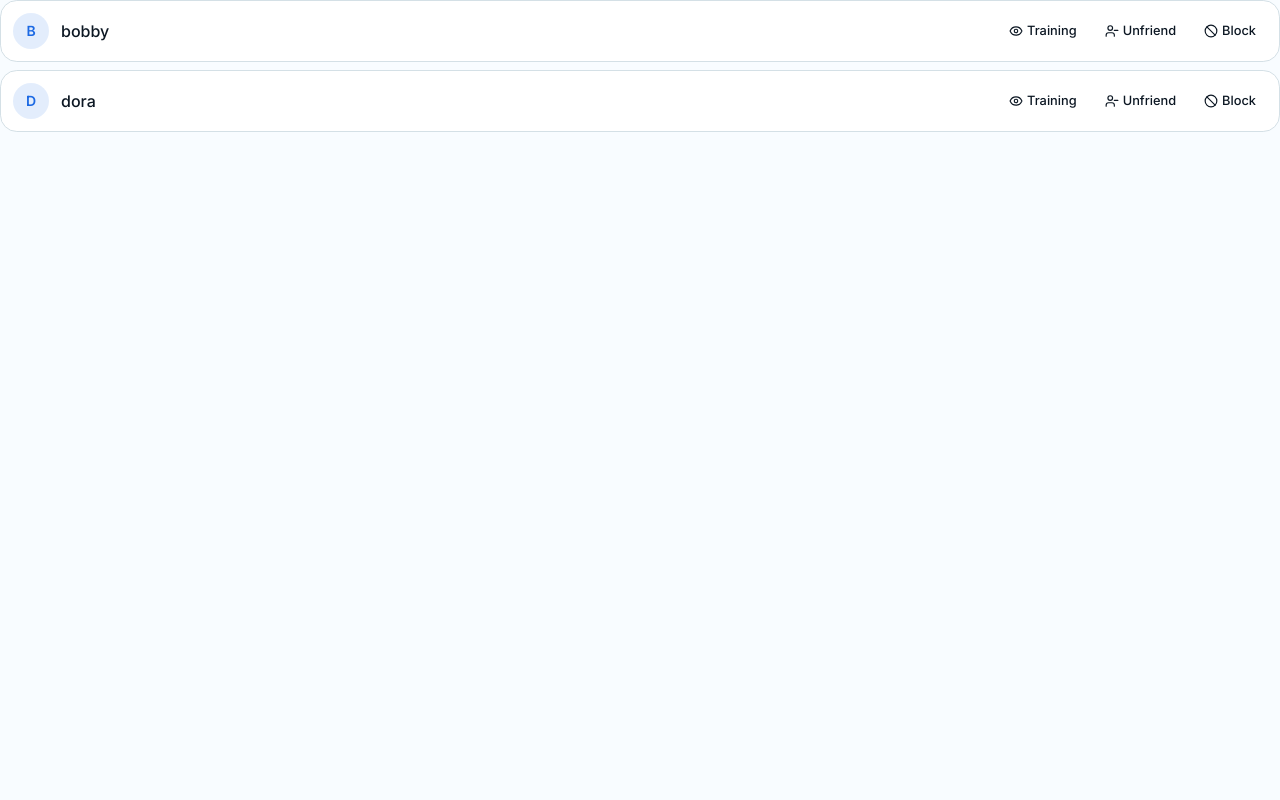
Test: FriendsList › opens a friend's training in a dialog scoped to just them
The width and height of the screenshot is (1280, 800).
Click the button with aria-label "view bobby's planned training". click: (1043, 31)
box: 998,17 -> 1088,45
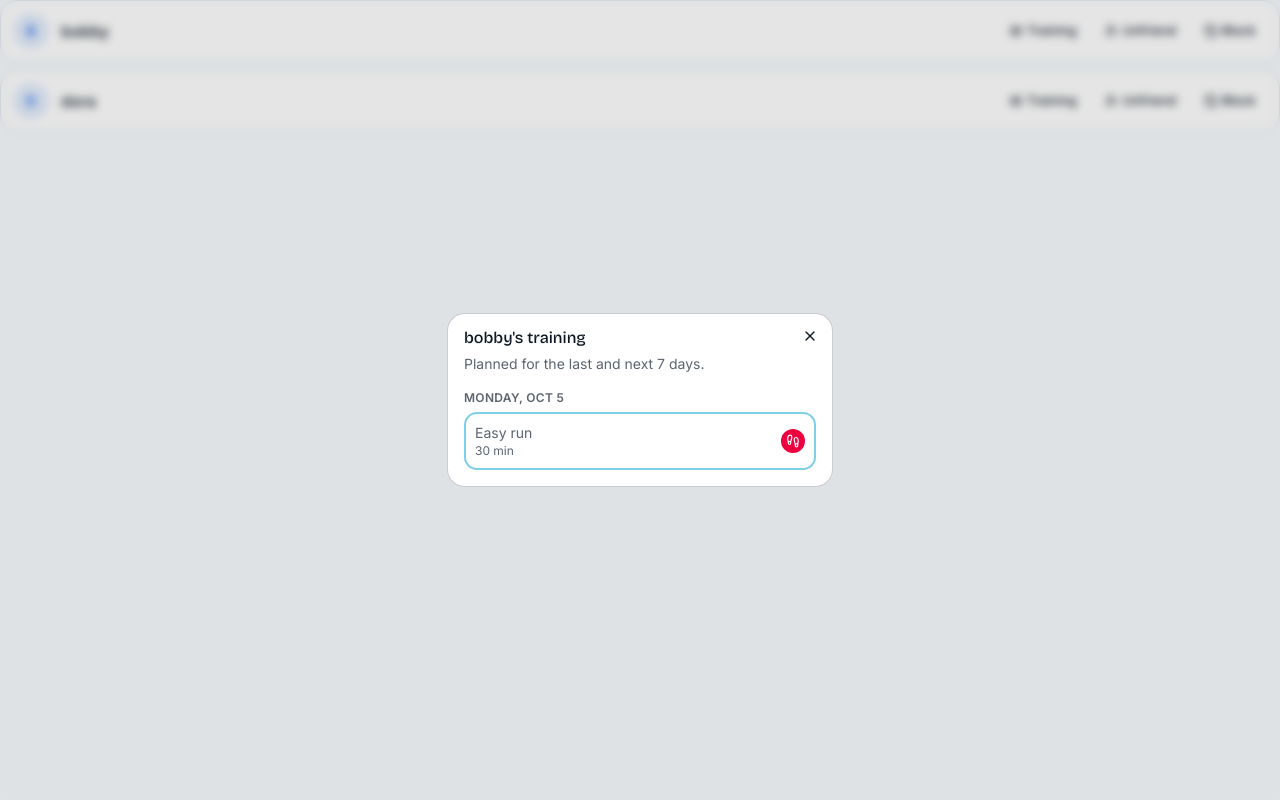
Expected: the heading "bobby's training" is shown, 464,328 -> 586,347
Expected: the text "Easy run" is shown, 475,424 -> 532,441
